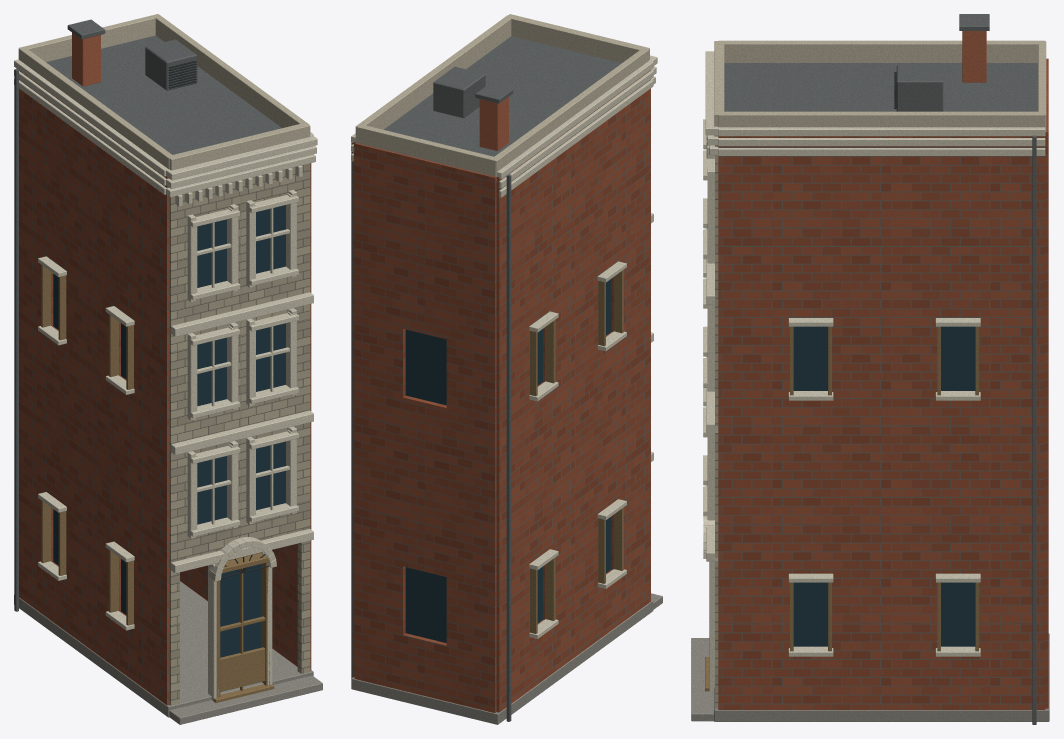
The model's file is OFFC17_lod1.glb.
The picture shows the model from 3 angles, left to right: view 1: azimuth 30°, elevation 25°; view 2: azimuth 150°, elevation 25°; view 3: azimuth 270°, elevation 25°; orthographic projection. The views are drawn at different scales.
Visible parts, largest first — view 1: OFFC17_LOD1; view 2: OFFC17_LOD1; view 3: OFFC17_LOD1.
Boxes of the visible parts, x1=… form: OFFC17_LOD1: x1=14, y1=14, x2=322, y2=724; OFFC17_LOD1: x1=351, y1=14, x2=662, y2=724; OFFC17_LOD1: x1=691, y1=14, x2=1049, y2=724.
Size of the model in its own units: 3.71 by 13.05 by 6.57.
Materials: 11 (9 with a texture image).
